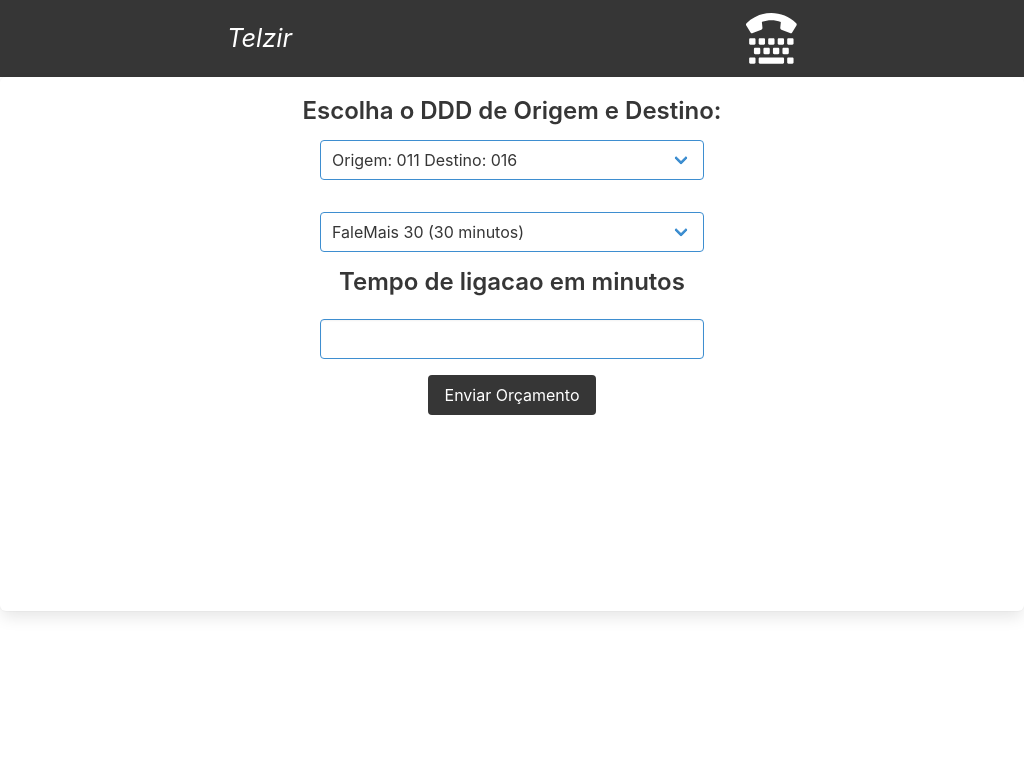
Test: Verifica os elementos da tela de orçamento › Verificando que, ao digitar no campo tempo de ligação um caracter que não seja numero e clicar em Enviar Orçamento, é renderizado um erro
Type "k" into the field labelled "Tempo de ligacao em minutos" at (512, 339), box [320,319,704,359]
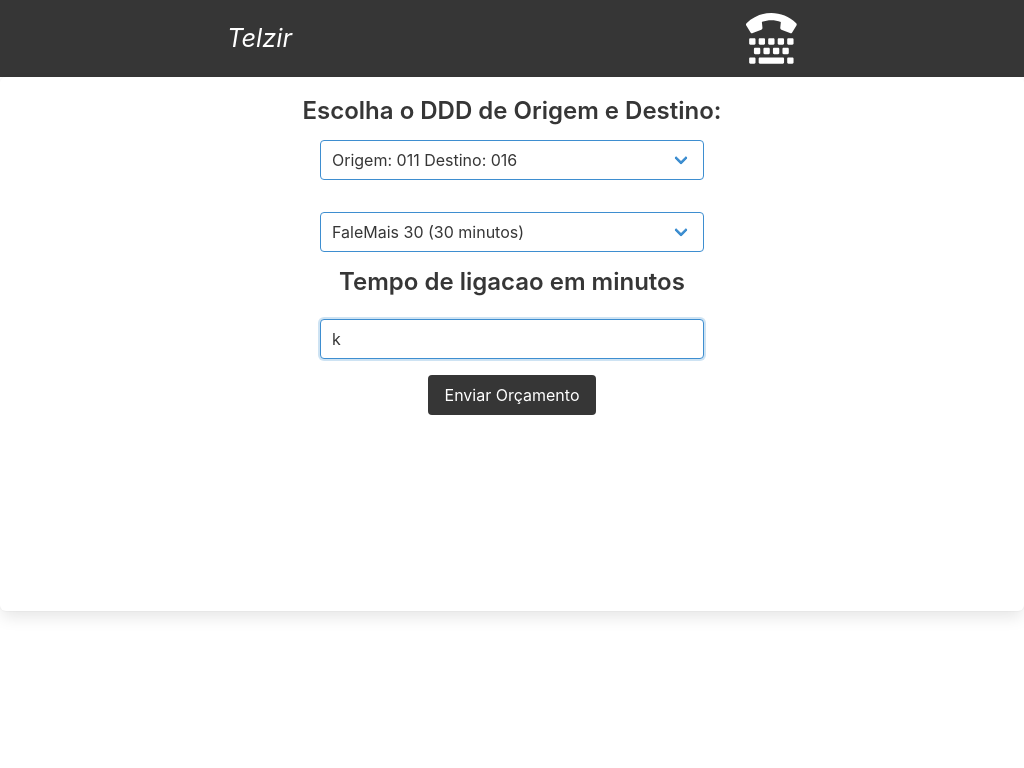
Click the button with test id "id-send" at (512, 395), box [428,375,596,415]
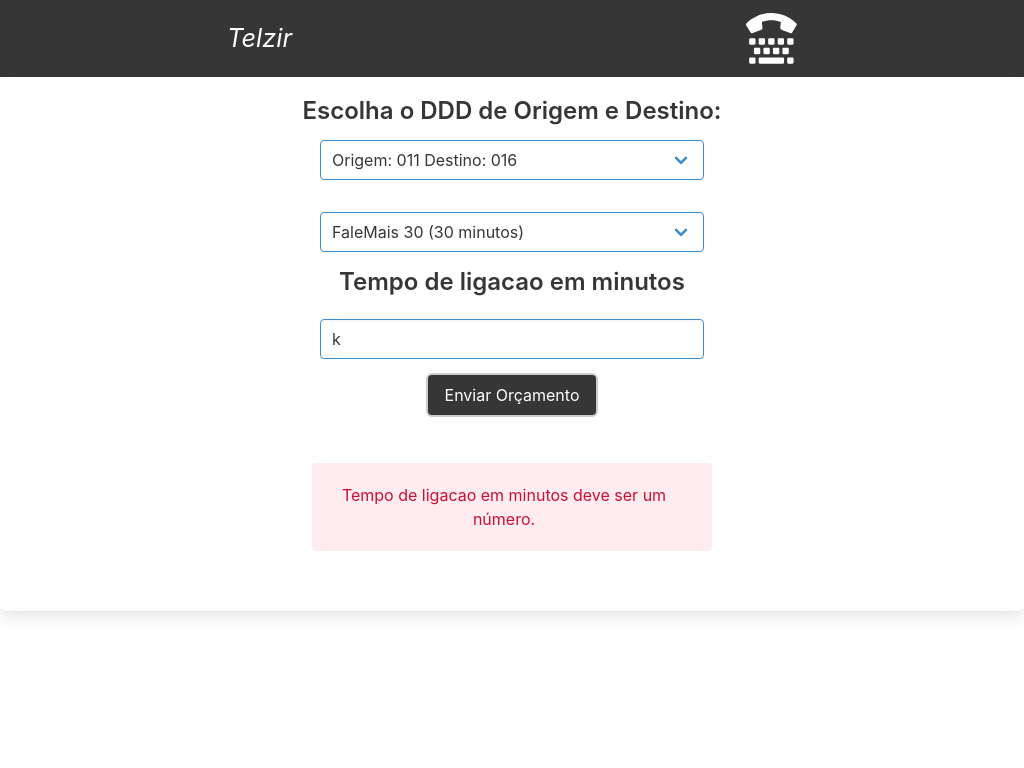
Expected: the text with test id "quote-error" reads "Tempo de ligacao em minutos deve ser um número.", [342,485,666,529]
